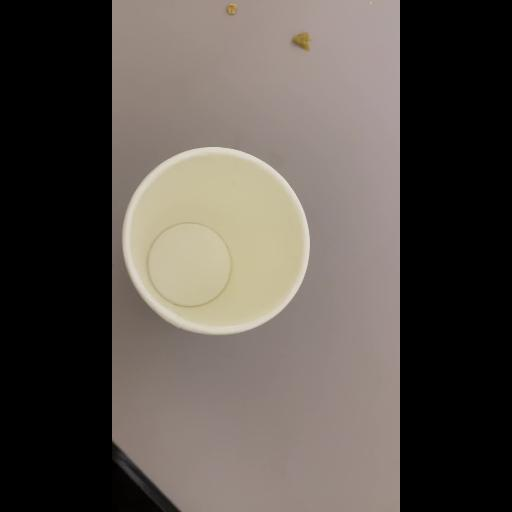lp_paper_cup: (112, 140, 318, 362)
